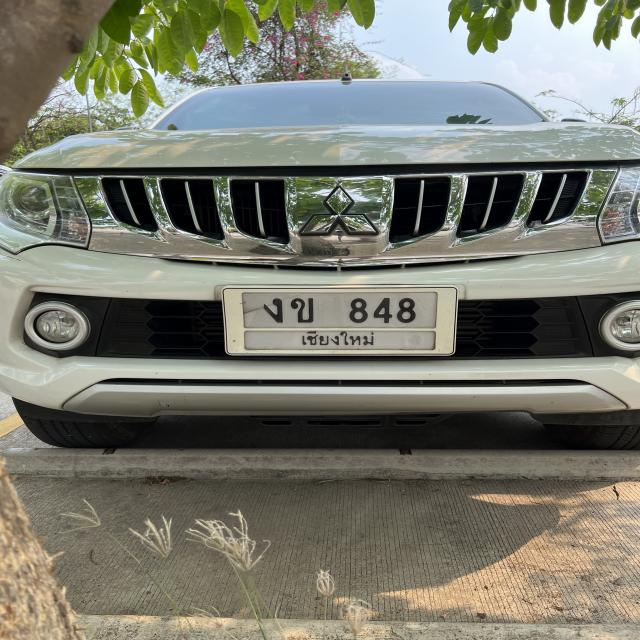license_plate: (222, 284, 460, 360)
